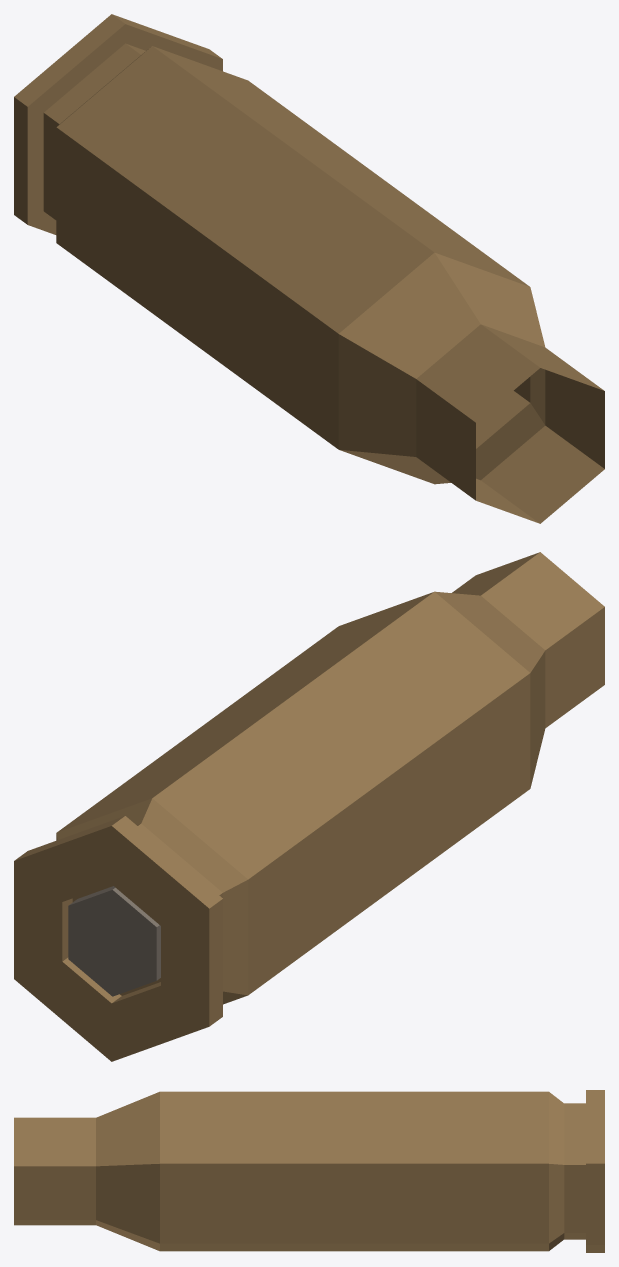
The model's file is SM_MP7_Casing.fbx.
The picture shows the model from 3 angles, top to bottom: view 1: azimuth 30°, elevation 25°; view 2: azimuth 150°, elevation 25°; view 3: azimuth 270°, elevation 25°; orthographic projection. The views are drawn at different scales.
Parts seen in each view (by area): view 1: SM_MP7_Casing; view 2: SM_MP7_Casing; view 3: SM_MP7_Casing.
Part boxes in pixels (x1,y1,x2,y2): SM_MP7_Casing: [14, 14, 604, 523]; SM_MP7_Casing: [14, 552, 604, 1061]; SM_MP7_Casing: [14, 1090, 604, 1252].
Bounding box in the file's own units: 0.7672 × 0.8859 × 2.92.
